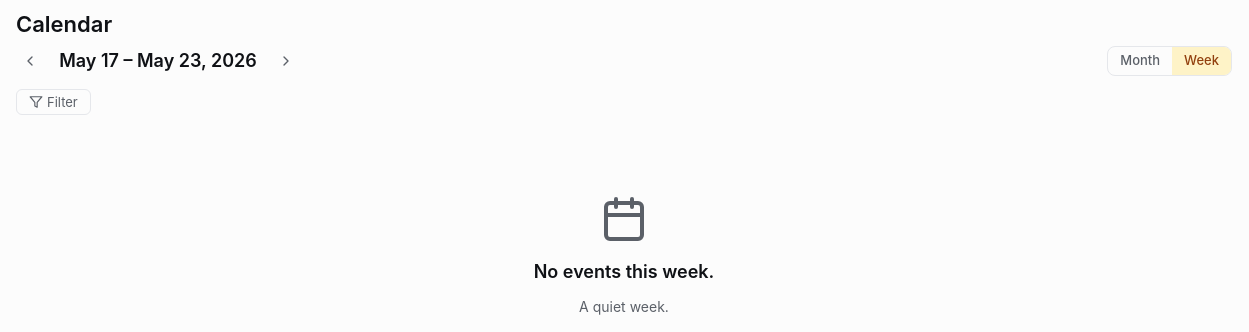
Test: CalendarWeekView — show completed filter › "Show completed" option is revealed after opening the filter menu
The width and height of the screenshot is (1249, 332).
// "Show completed" lives inside the filter dropdown — open it first
Click the button "Filter": click(53, 102) top-left (16, 88), bottom-right (91, 114)
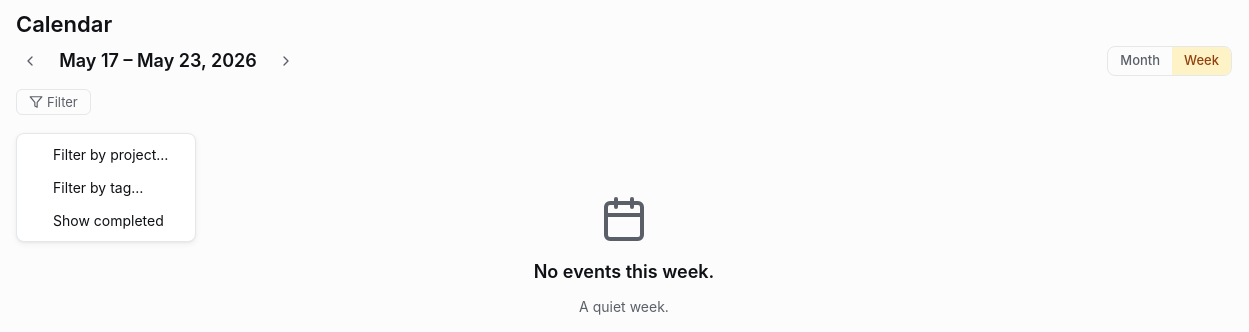
Expected: the menu item "Show completed" is shown, top-left (17, 204), bottom-right (195, 236)
